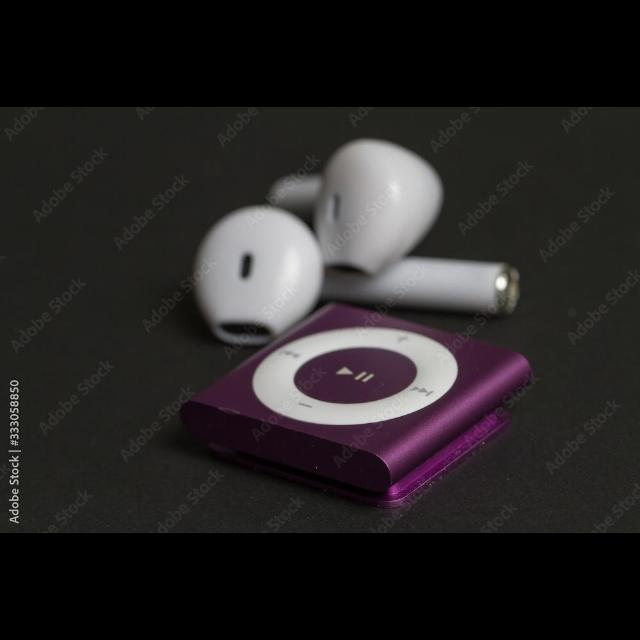Music-Player: (172, 302, 538, 514)
